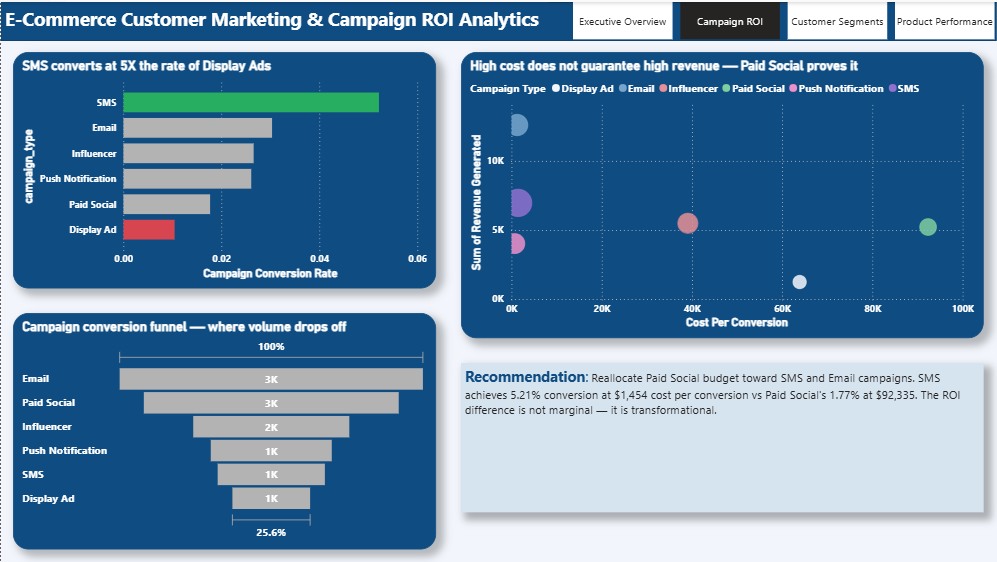

The page's visual inventory and layout, read from the dashboard file:
{"tool":"powerbi","page":{"name":"Campaign ROI","canvas":[1280,720],"ordinal":1},"visuals":[{"type":"shape","box":[0,0,1280,50],"z":0},{"type":"pageNavigator","box":[736,0,544,48],"z":1000},{"type":"textbox","box":[0,0,704,48],"z":2000},{"type":"clusteredBarChart","title":"SMS converts at 5X the rate of Display Ads","fields":{"Category":["campaigns.campaign_type"],"Y":["Measures (2).Campaign Conversion Rate"]},"box":[16,64,544,304],"z":3000},{"type":"scatterChart","title":"High cost does not guarantee high revenue — Paid Social proves it","fields":{"X":["Measures (2).Cost Per Conversion"],"Y":["Sum(campaigns.revenue_generated)"],"Size":["Measures (2).Campaign Conversion Rate"],"Series":["campaigns.campaign_type"]},"box":[592,64,672,368],"z":4000},{"type":"funnel","title":"Campaign conversion funnel — where volume drops off","fields":{"Category":["campaigns.campaign_type"],"Y":["Measures (2).Total Sends"]},"box":[16,400,544,304],"z":5000},{"type":"textbox","box":[592,464,672,192],"z":6000}]}

Visuals, with their boxes in screenshot pixels (x1, y1, x2, y2), scaled from the page's 1280x720 canvas onto the 997x562 screenshot:
shape: left=0, top=0, right=996, bottom=39
pageNavigator: left=573, top=0, right=996, bottom=37
textbox: left=0, top=0, right=548, bottom=37
"SMS converts at 5X the rate of Display Ads" clusteredBarChart: left=12, top=50, right=436, bottom=287
"High cost does not guarantee high revenue — Paid Social proves it" scatterChart: left=461, top=50, right=985, bottom=337
"Campaign conversion funnel — where volume drops off" funnel: left=12, top=312, right=436, bottom=550
textbox: left=461, top=362, right=985, bottom=512
